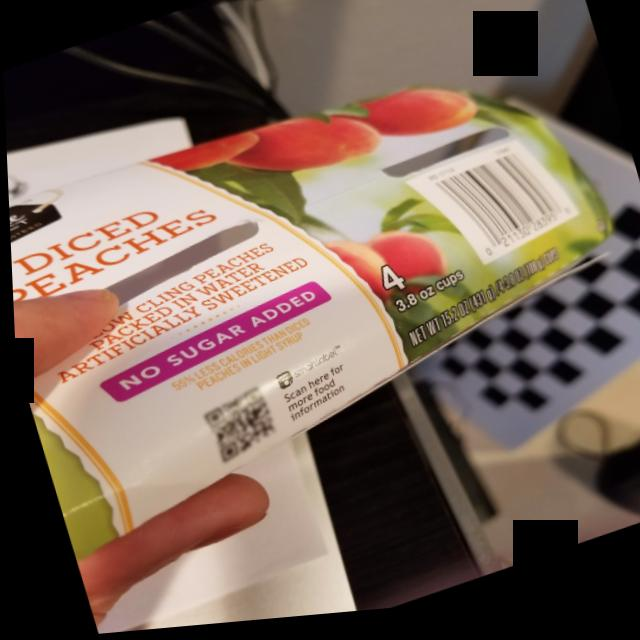QR_CODE: (182, 374, 290, 480)
